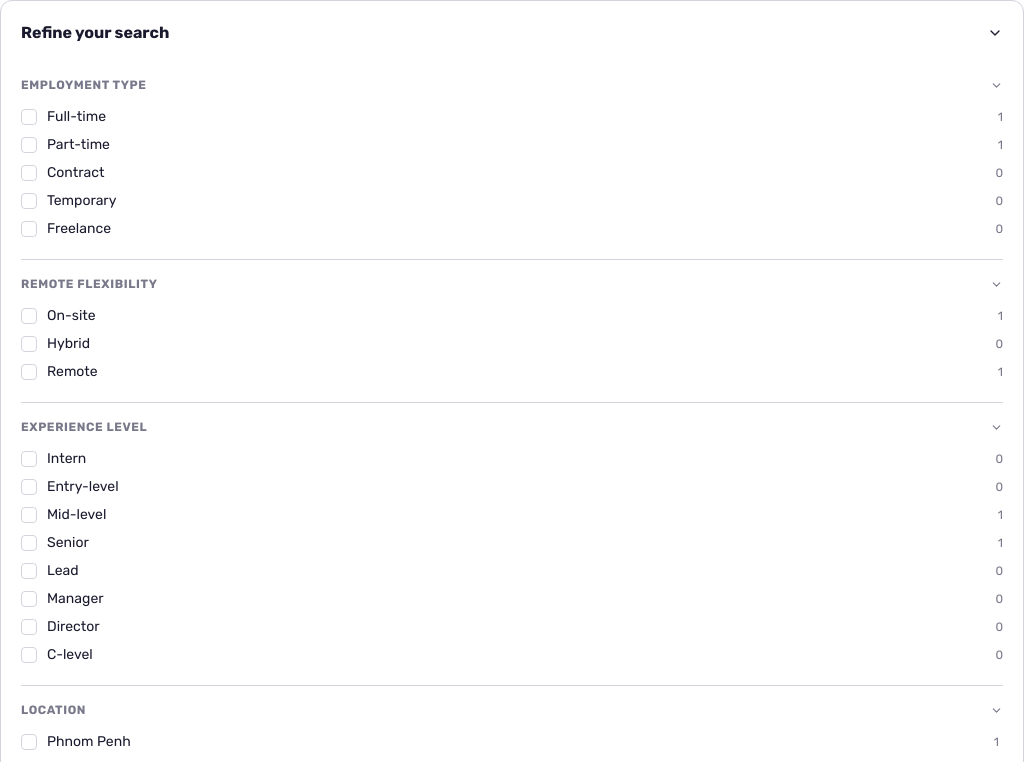
Test: JobFilters collapsible panel › keeps an active selection when its section is collapsed
Click the text "Full-time": (76, 117) x1=47 y1=107 x2=106 y2=127
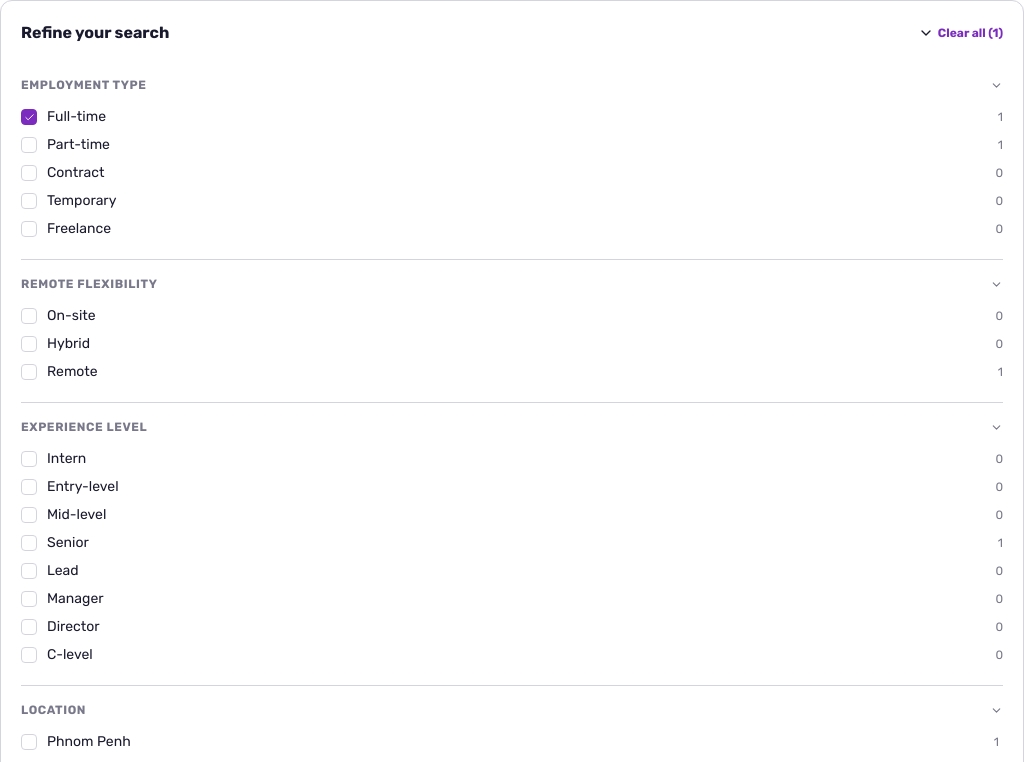
Check: the button "Clear all (1)" is shown, box x1=938 y1=25 x2=1003 y2=41
Click the button "Employment Type": (84, 85) x1=15 y1=75 x2=1009 y2=95
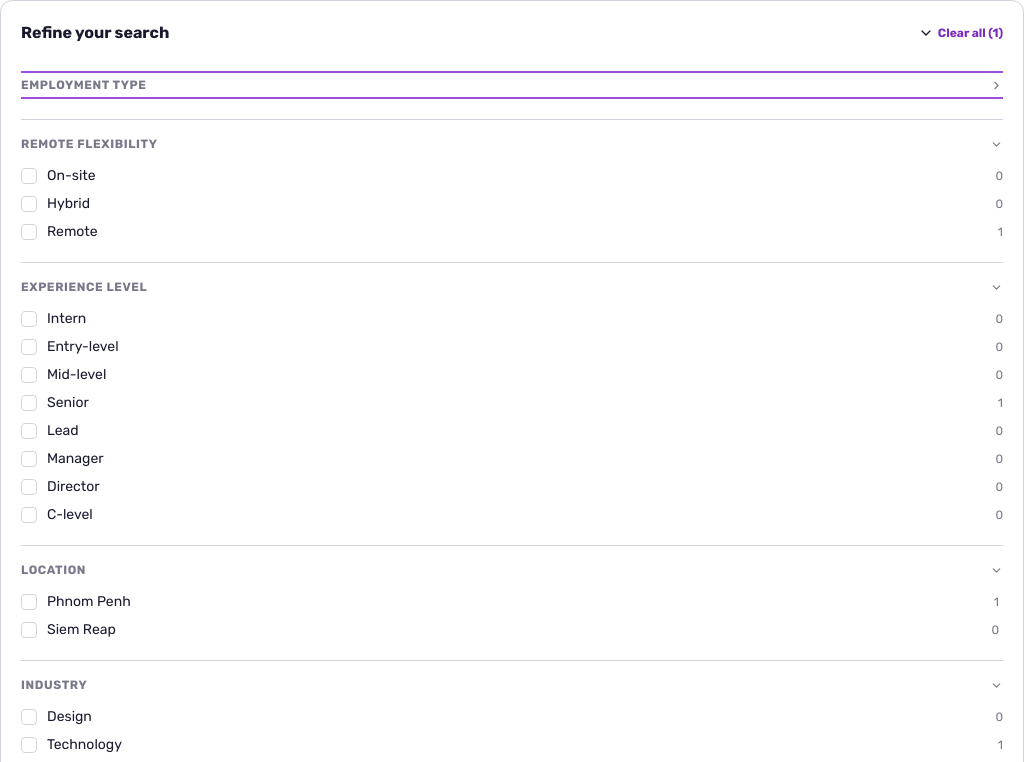
Check: the button "Clear all (1)" is shown, box x1=938 y1=25 x2=1003 y2=41
Check: the button "Employment Type" is collapsed, box x1=21 y1=75 x2=1003 y2=95
